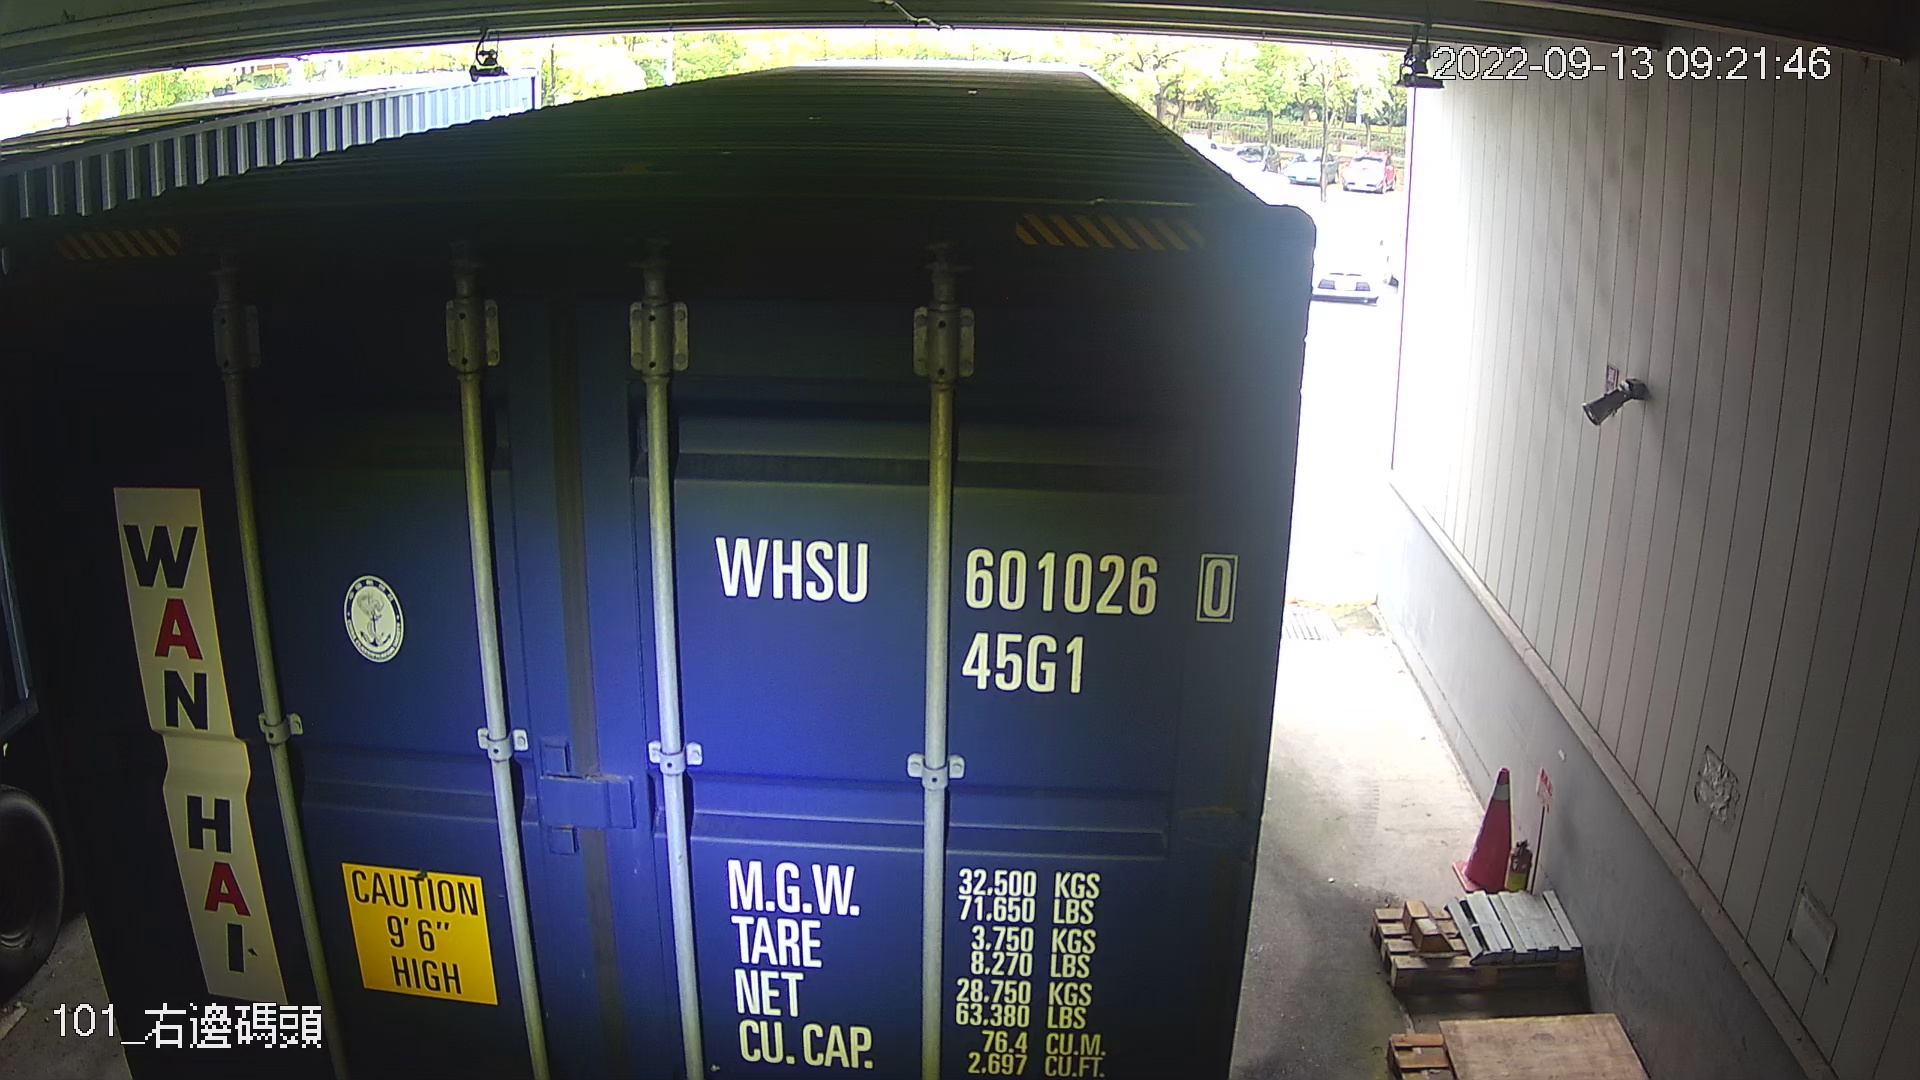container: (705, 513, 1254, 702)
